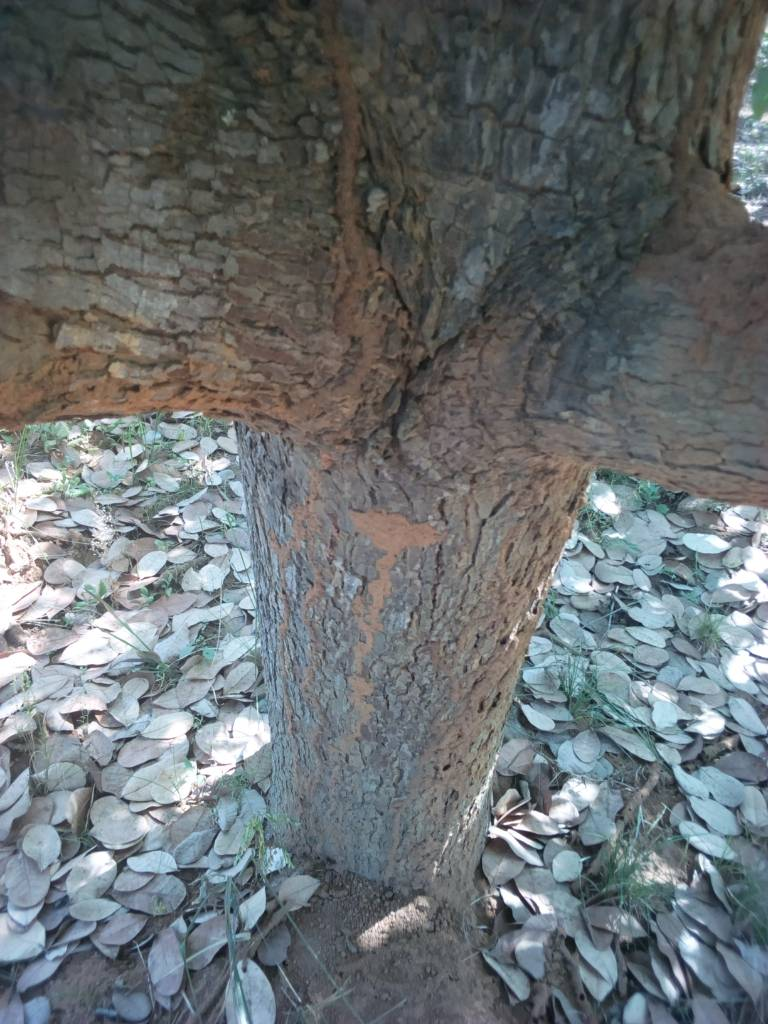Termites: (288, 489, 422, 846), (447, 475, 518, 835), (327, 38, 383, 427)
